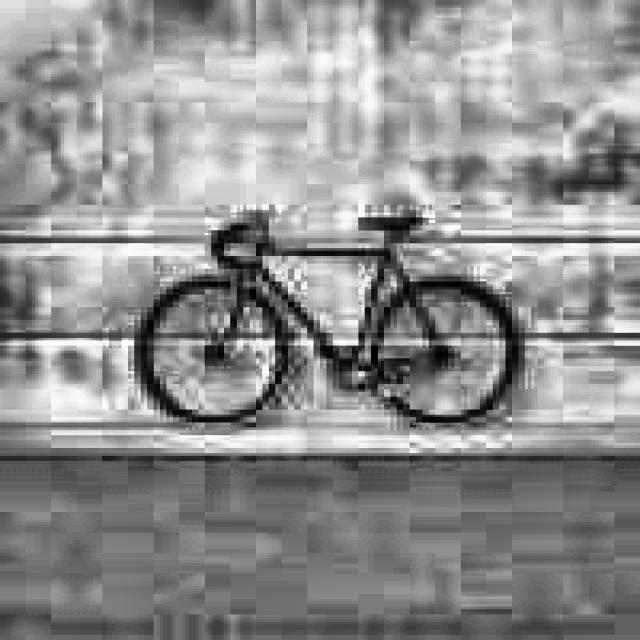bike: (127, 196, 531, 433)
